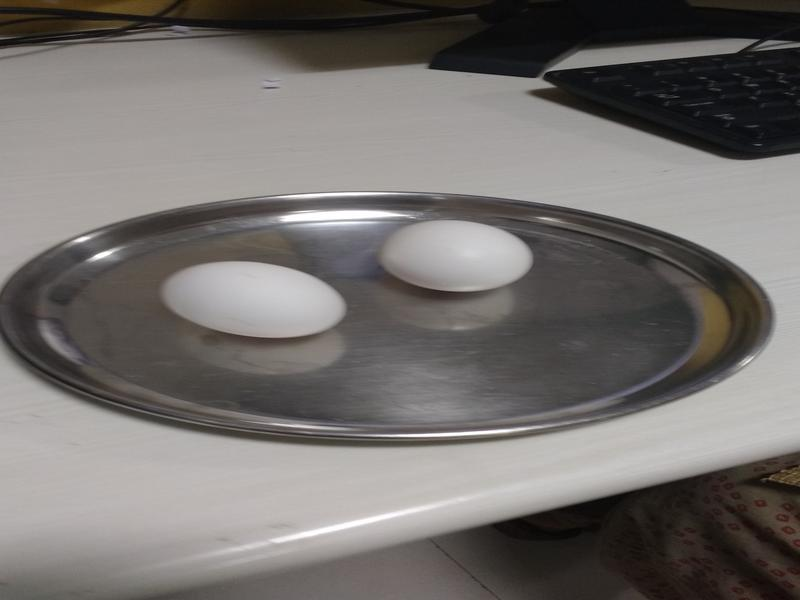egg: (166, 263, 352, 340)
